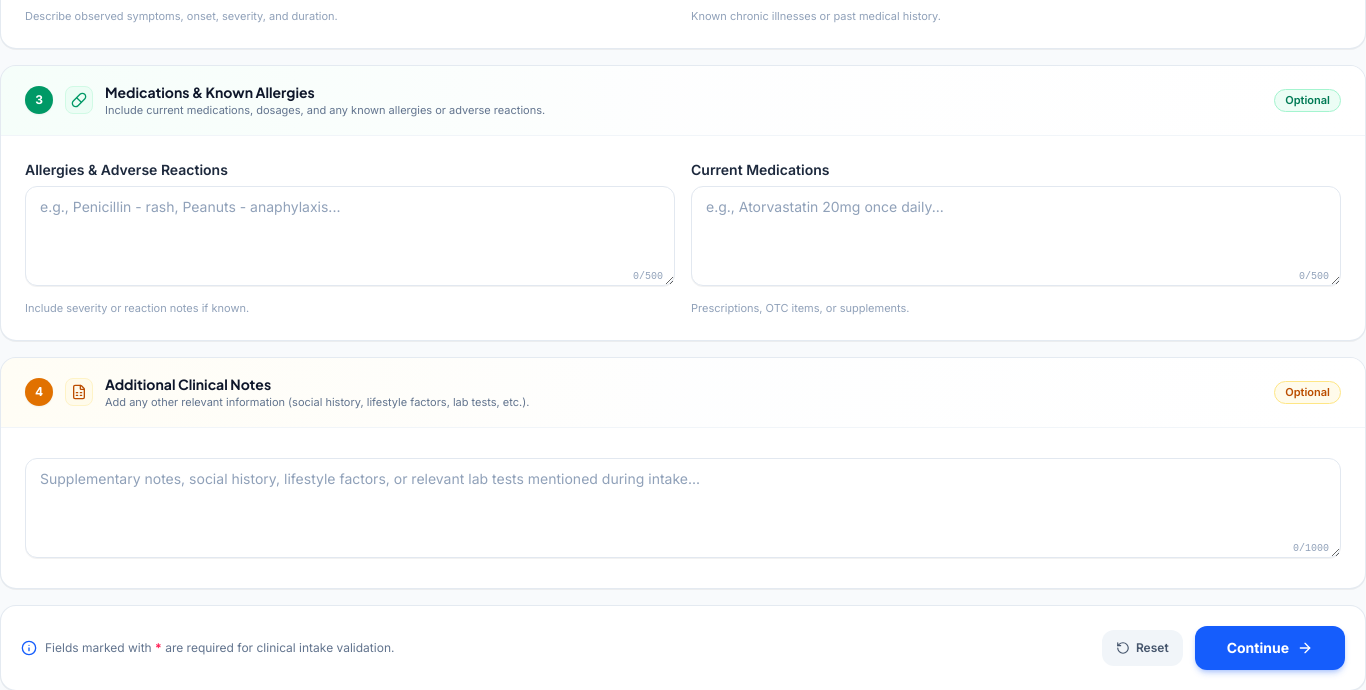
Scenario: PatientForm Component › displays validation error messages when submitting an empty form
(page scrolled)
Click the button "Continue": click(1270, 648) [1195,626,1345,670]
(page scrolled)
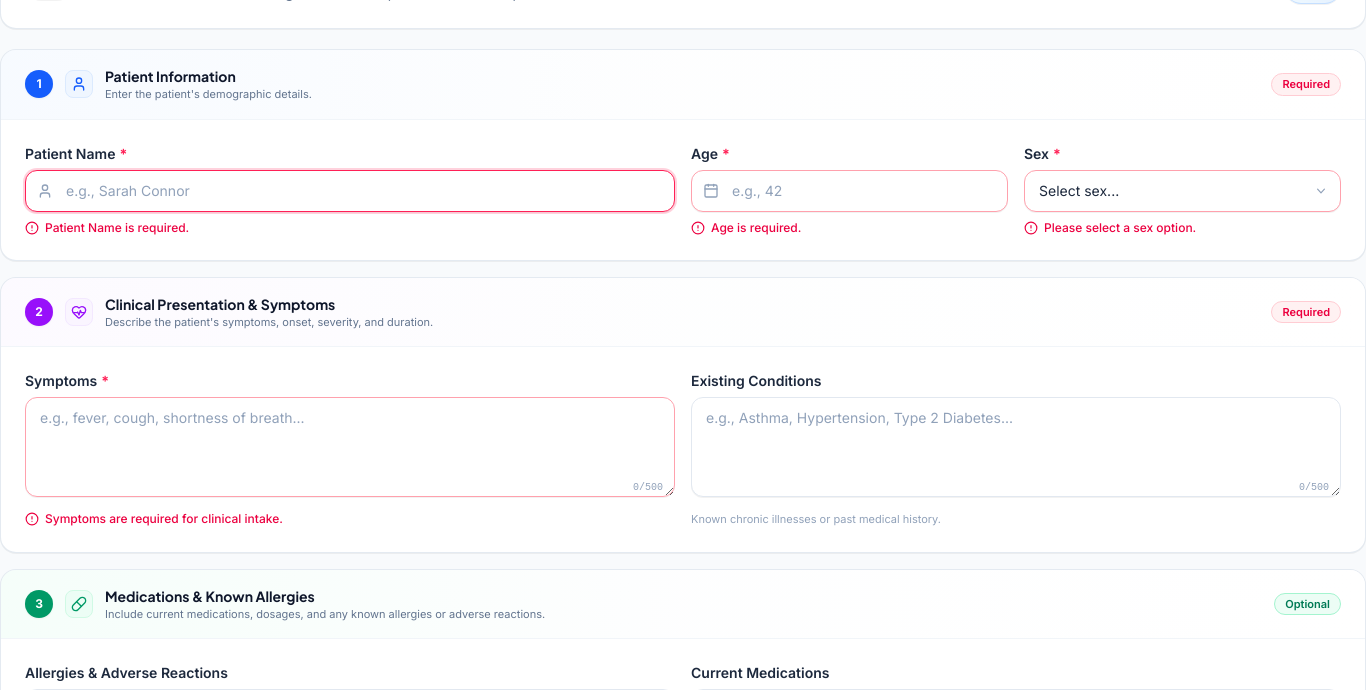
Result: the text "Patient Name is required." is shown at [45,220,189,236]
Result: the text "Age is required." is shown at [711,220,801,236]
Result: the text "Please select a sex option." is shown at [1044,220,1196,236]
